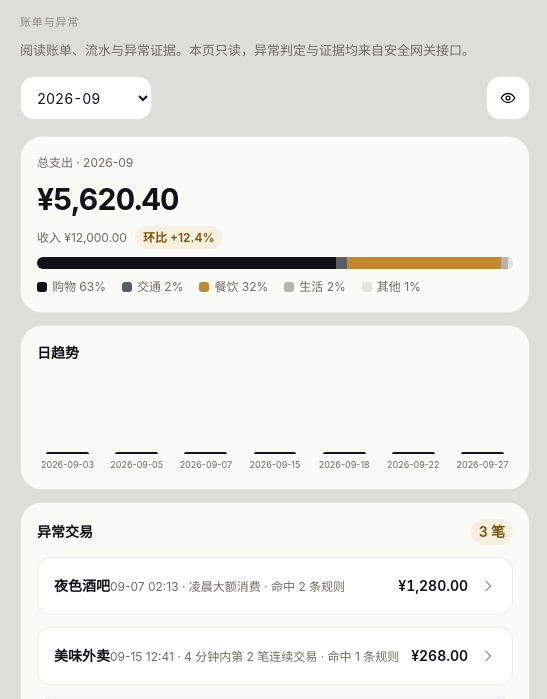
Scenario: bills page › new month failure keeps old month content, not relabeled
Expected: the text "总支出 · 2026-09" is shown, [37,155,133,170]
Select "2026-08" in the dropdown named "月份" at (86,98), box [20,76,152,120]
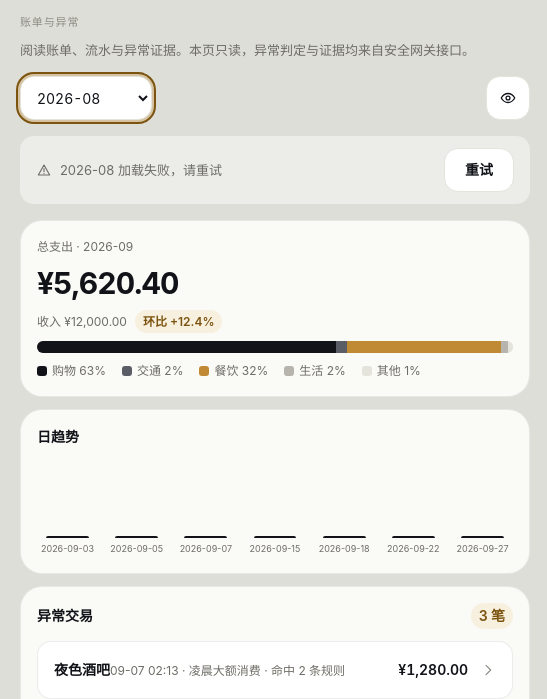
Expected: the text "总支出 · 2026-09" is shown, [37,239,133,254]
Result: the text "2026-08 加载失败，请重试" is shown at [60,162,222,178]
